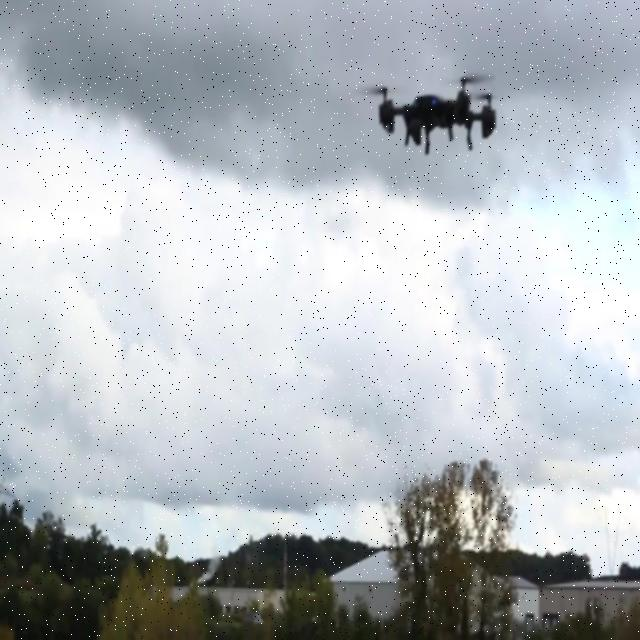UAV: (376, 72, 498, 156)
